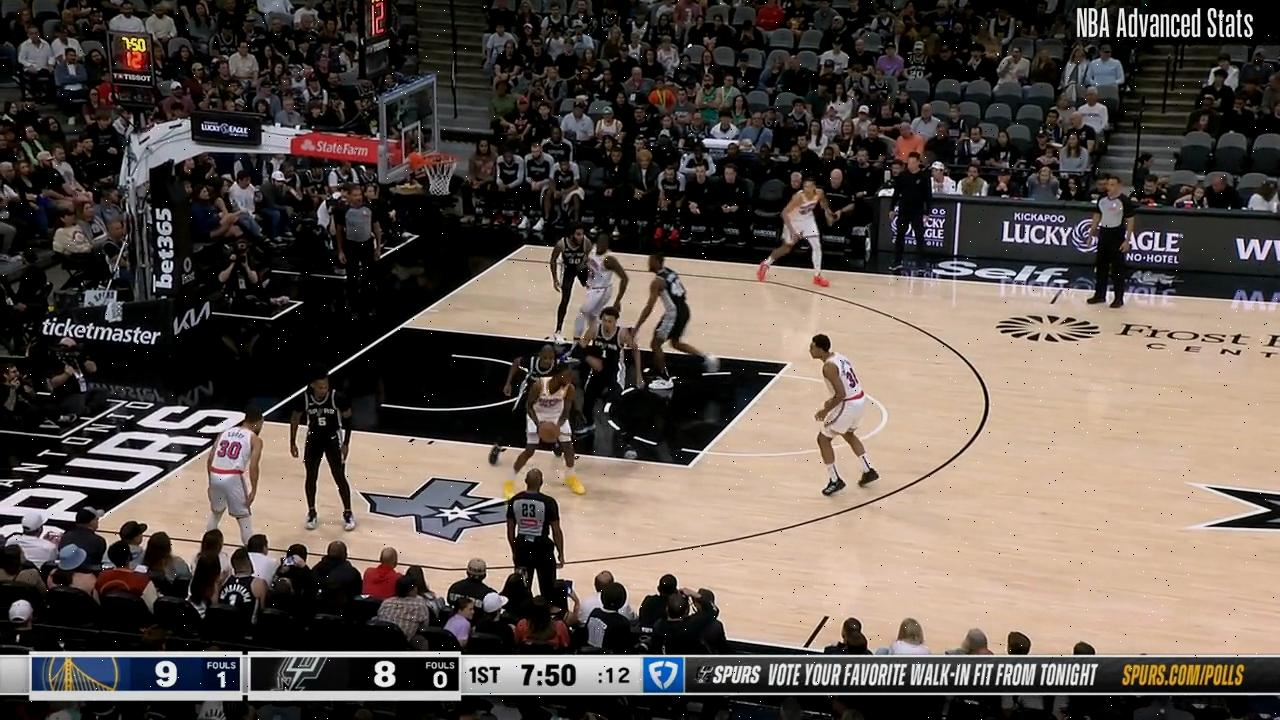basketball: (537, 417, 562, 448)
